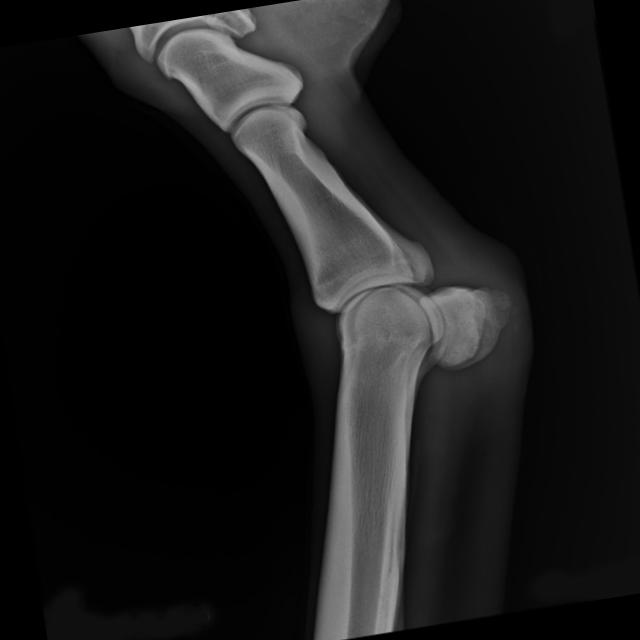joint-ht8A: (242, 194, 536, 448)
